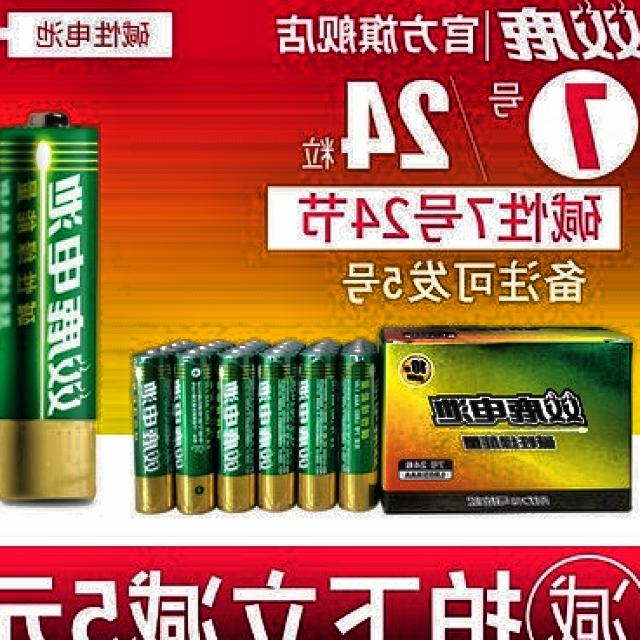Non-Valuable Waste - Batteries: (135, 340, 379, 513), (0, 112, 98, 500)
